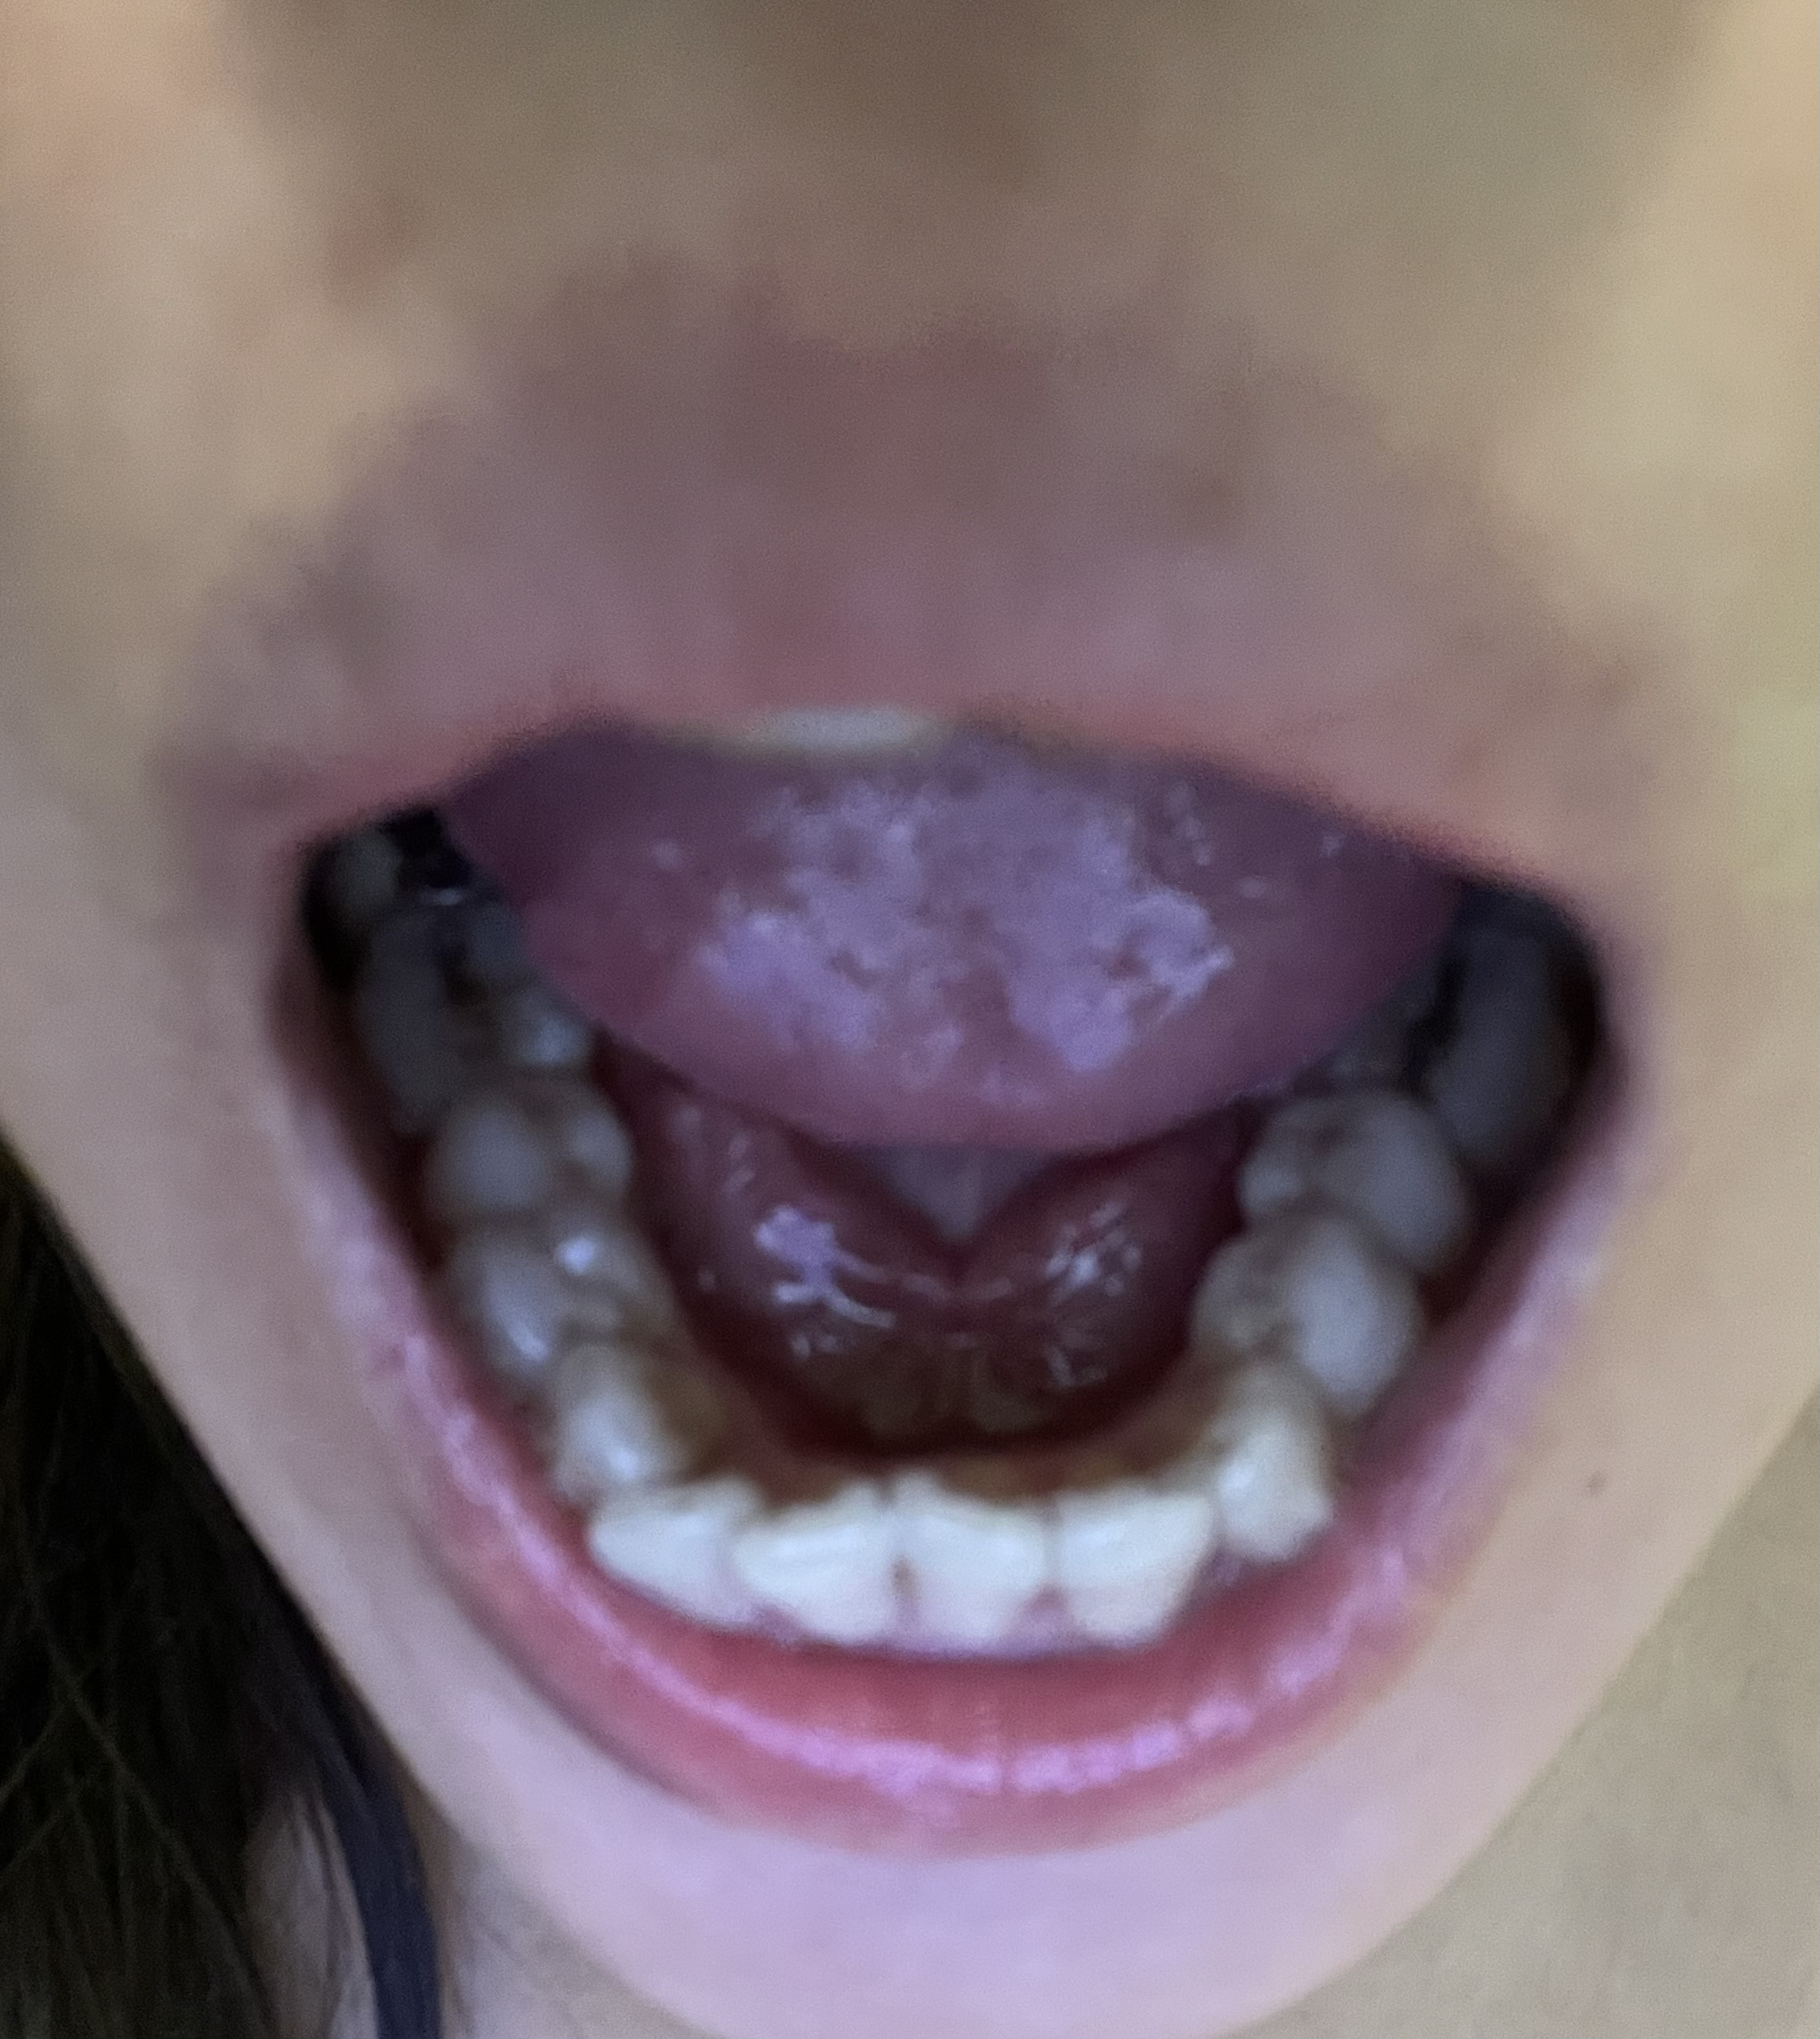teeth: (337, 901, 604, 1138), (1358, 933, 1567, 1163), (430, 1198, 676, 1382), (1251, 1082, 1481, 1250), (1210, 1208, 1404, 1387), (404, 1071, 631, 1215), (1195, 1354, 1347, 1561), (529, 1349, 719, 1500), (1051, 1481, 1205, 1654), (896, 1466, 1052, 1635), (594, 1475, 764, 1612), (757, 1477, 891, 1635)
